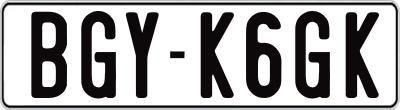6: (244, 11, 283, 99)
B: (28, 9, 64, 97)
G: (295, 11, 332, 101), (80, 10, 118, 97)
K: (346, 12, 380, 104), (200, 10, 234, 99)
Y: (124, 11, 158, 100)
